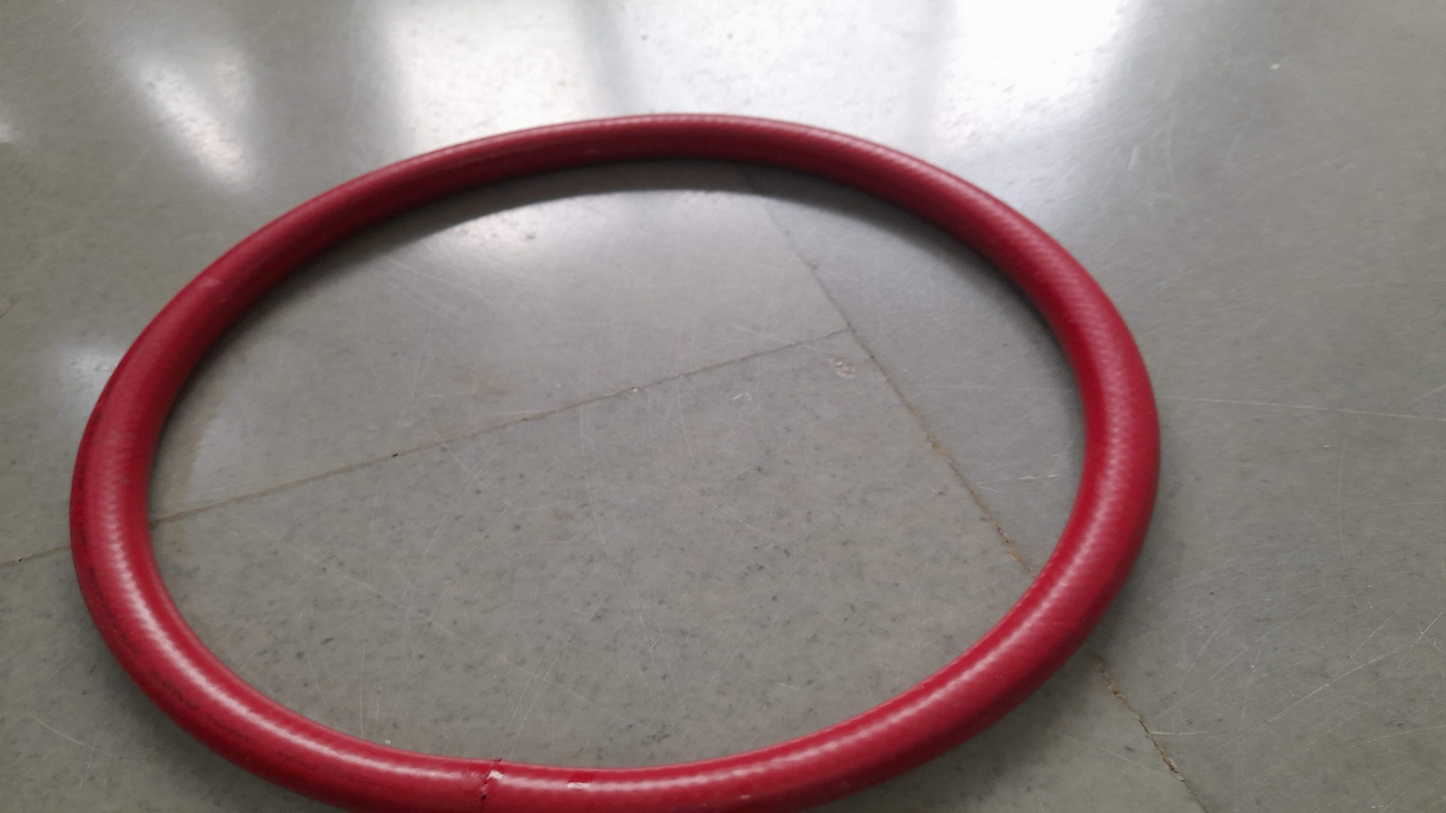Red ring: (75, 111, 1159, 813)
